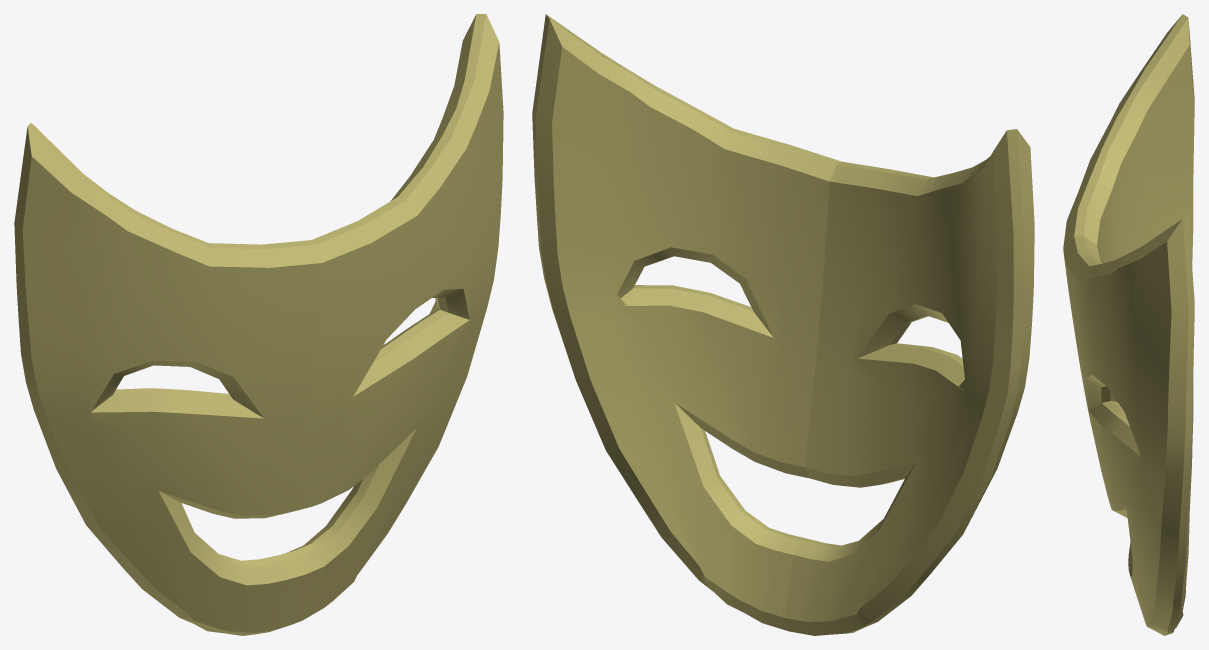
The model's file is mask.fbx.
3 renders of one model, left to right at view 1: azimuth 30°, elevation 25°; view 2: azimuth 150°, elevation 25°; view 3: azimuth 270°, elevation 25°, orthographic. The views are drawn at different scales.
Visible parts, largest first — view 1: mask; view 2: mask; view 3: mask.
Part boxes in pixels (x1,y1,x2,y2): mask: (14,14,503,635); mask: (532,14,1034,635); mask: (1063,14,1194,635).
Size of the model in its own units: 447 by 491 by 116.
